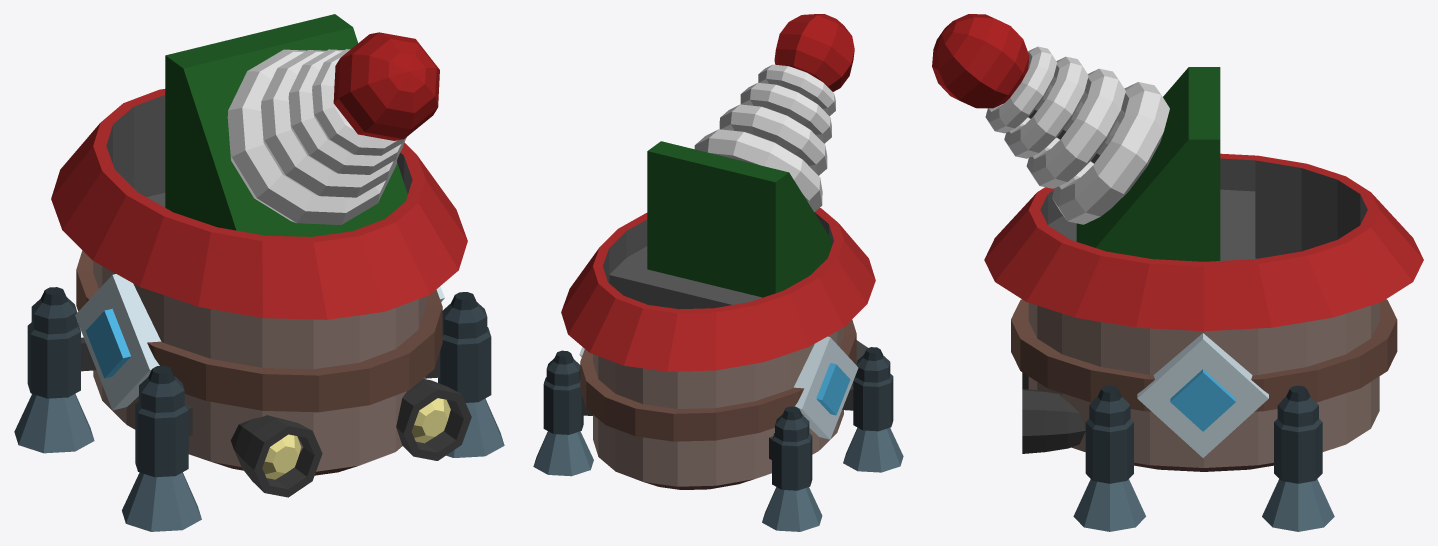
The model's file is JD blender.fbx.
3 views of the same model, side by side, from view 1: azimuth 30°, elevation 25°; view 2: azimuth 150°, elevation 25°; view 3: azimuth 270°, elevation 25° (orthographic). The views are drawn at different scales.
Parts seen in each view (by area): view 1: Cylinder.015, Cylinder.010, Cylinder.009, Cylinder.003, Cylinder.004, Cylinder.011, Cylinder.008, Cylinder.001, Cylinder.012, Cylinder.005, Cylinder.006, Cylinder.013 (+1 smaller); view 2: Cylinder.015, Cylinder.010, Cylinder.004, Cylinder.003, Cylinder.002, Cylinder.009, Cylinder.008, Cylinder.011, Cylinder.012, Cylinder.013, Cylinder.014; view 3: Cylinder.015, Cylinder.010, Cylinder.007, Cylinder.011, Cylinder.009, Cylinder.001, Cylinder.002, Cylinder.012, Cylinder.013, Cylinder.006, Cylinder.014.
Part boxes in pixels (box(x1,y1,x2,y2)): Cylinder.015: box(51, 89, 467, 475); Cylinder.010: box(165, 14, 407, 236); Cylinder.009: box(333, 32, 439, 140); Cylinder.003: box(122, 365, 201, 531); Cylinder.004: box(14, 287, 94, 453); Cylinder.011: box(227, 49, 397, 224); Cylinder.008: box(75, 274, 161, 410); Cylinder.001: box(438, 292, 504, 457); Cylinder.012: box(261, 50, 403, 197); Cylinder.005: box(230, 415, 322, 497); Cylinder.006: box(396, 379, 471, 460); Cylinder.013: box(288, 49, 406, 174); Cylinder.015: box(561, 208, 875, 489); Cylinder.010: box(647, 141, 831, 297); Cylinder.004: box(762, 406, 822, 531); Cylinder.003: box(843, 347, 903, 472); Cylinder.002: box(533, 350, 593, 476); Cylinder.009: box(774, 14, 854, 91); Cylinder.008: box(793, 336, 858, 439); Cylinder.011: box(694, 129, 822, 212); Cylinder.012: box(719, 104, 827, 175); Cylinder.013: box(740, 83, 831, 143); Cylinder.014: box(758, 64, 835, 116); Cylinder.015: box(984, 153, 1423, 471); Cylinder.010: box(1028, 67, 1220, 261); Cylinder.007: box(1137, 333, 1268, 457); Cylinder.011: box(1052, 82, 1169, 224); Cylinder.009: box(932, 14, 1029, 108); Cylinder.001: box(1073, 385, 1145, 531); Cylinder.002: box(1262, 385, 1334, 531); Cylinder.012: box(1026, 68, 1125, 188); Cylinder.013: box(1004, 56, 1088, 158); Cylinder.006: box(1022, 389, 1085, 453); Cylinder.014: box(985, 46, 1056, 133).
Size of the model in its own units: 282 by 356 by 365.
